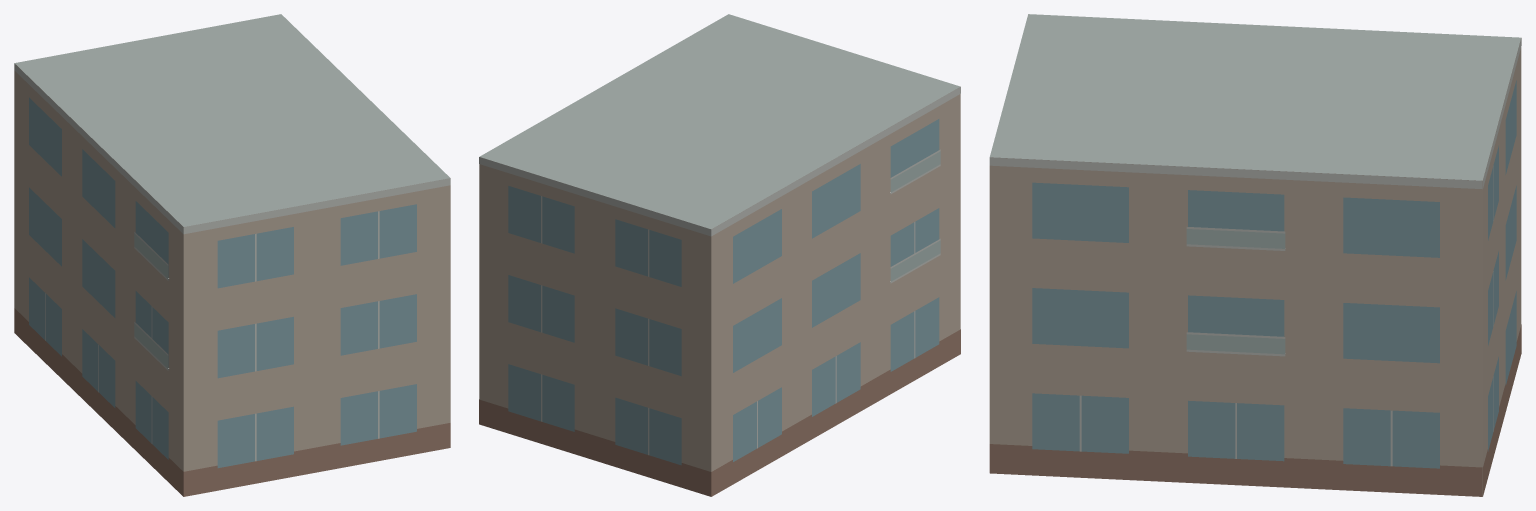
Rendered from survey-upis-32804536.glb.
3 views of the same model, side by side, from view 1: azimuth 30°, elevation 25°; view 2: azimuth 150°, elevation 25°; view 3: azimuth 270°, elevation 25° (orthographic). The views are drawn at different scales.
Visible parts, largest first — view 1: survey-upis-32804536.tmp; view 2: survey-upis-32804536.tmp; view 3: survey-upis-32804536.tmp.
Boxes of the visible parts, box(x1,y1,x2,y2) form: survey-upis-32804536.tmp: box(14, 14, 450, 496); survey-upis-32804536.tmp: box(479, 14, 960, 496); survey-upis-32804536.tmp: box(989, 14, 1521, 496).
Bounding box in the file's own units: 10.36 × 9.15 × 13.96.
